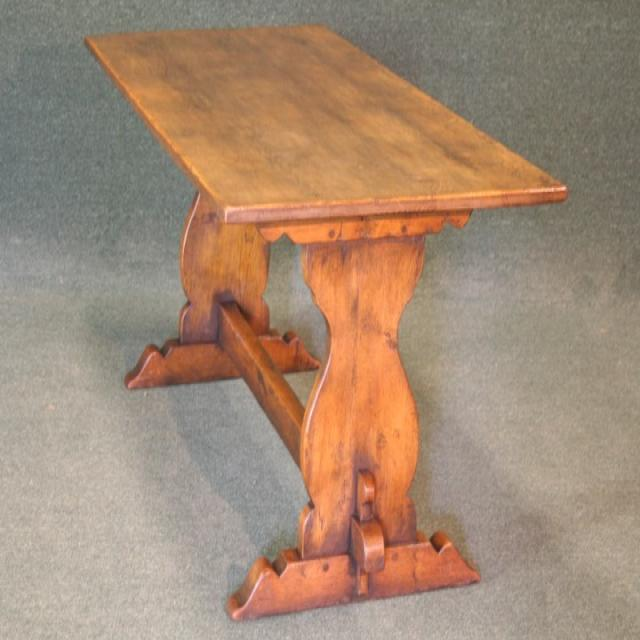table: (85, 20, 569, 627)
